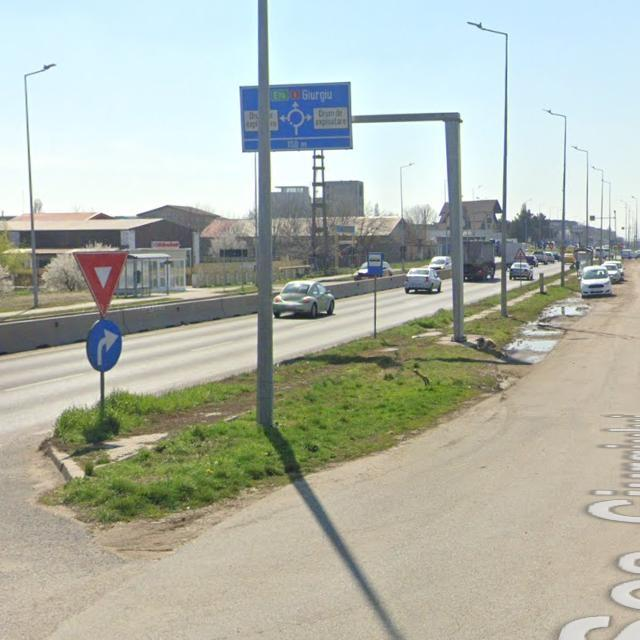prio_give_way: (74, 250, 129, 316)
